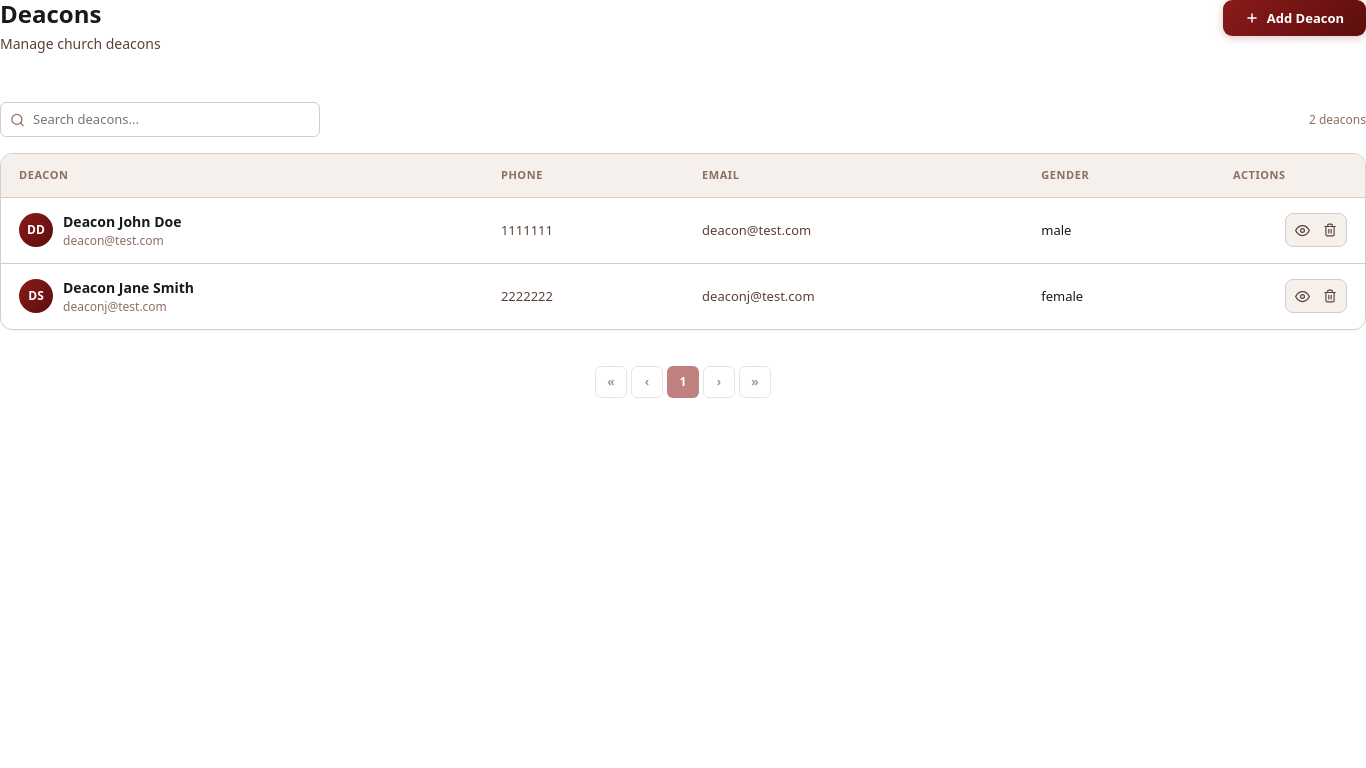
Test case: Deacons › searches members in modal
Click the button "Add Deacon".
click(1294, 18)  # box 1223,0 -> 1365,36
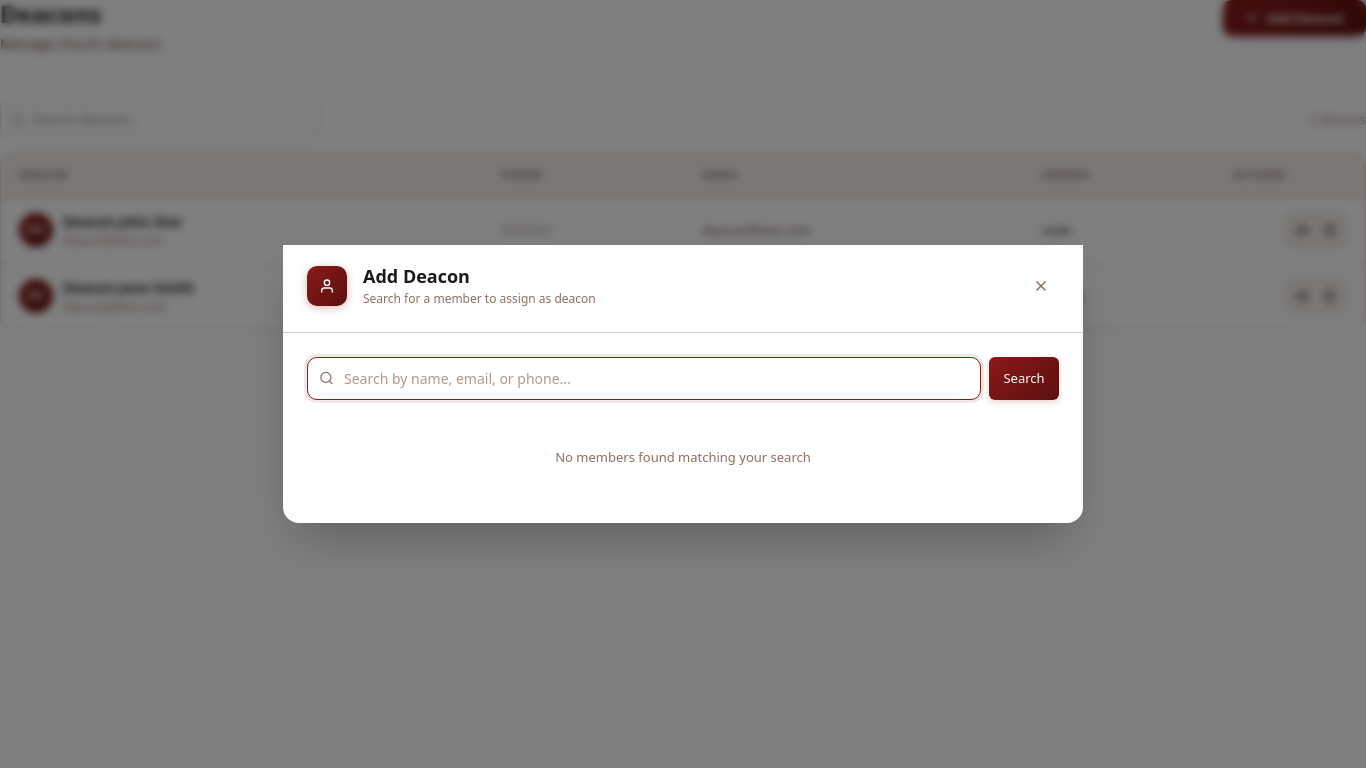
Type "Find" into the field with placeholder "Search by name, email, or phone...".
click(644, 378); type("Find")  # box 307,357 -> 981,400
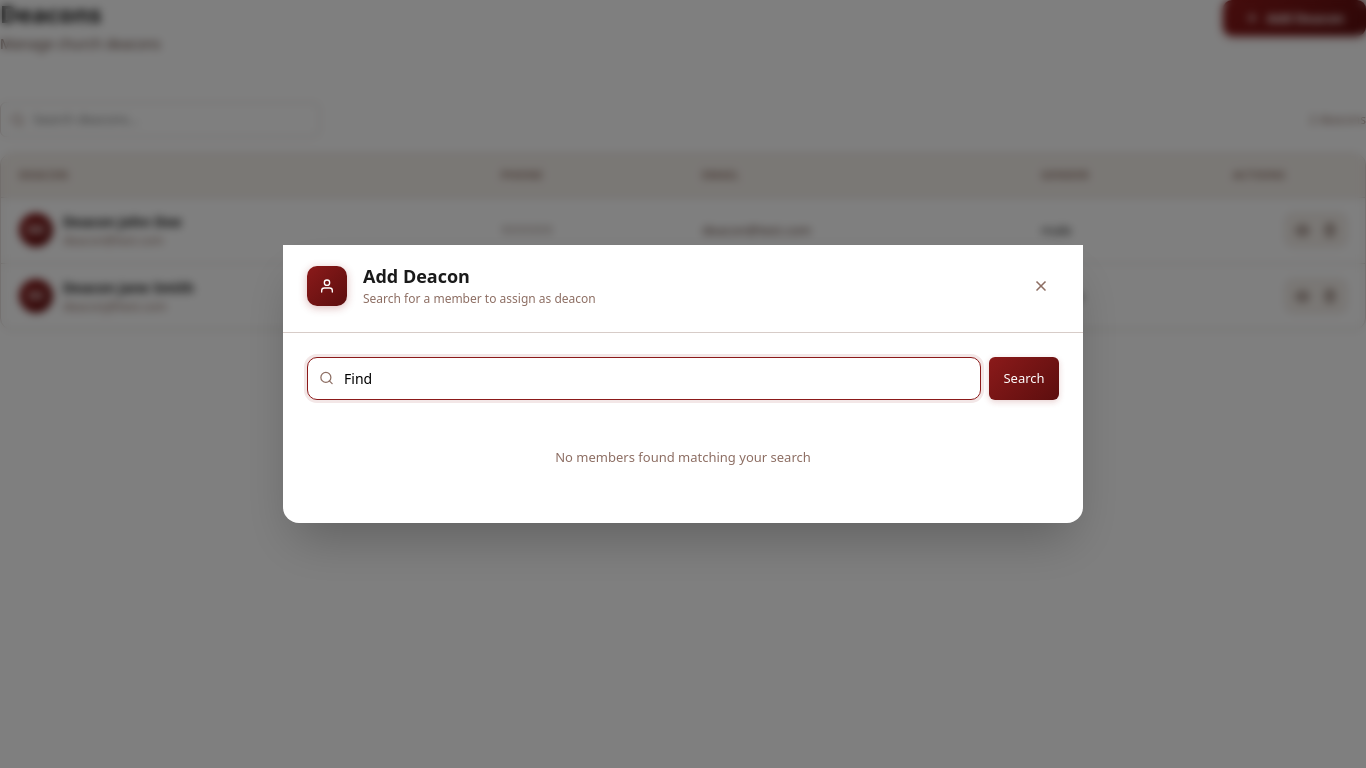
Submit the form with placeholder "Search by name, email, or phone...", box 307,357 -> 1059,400
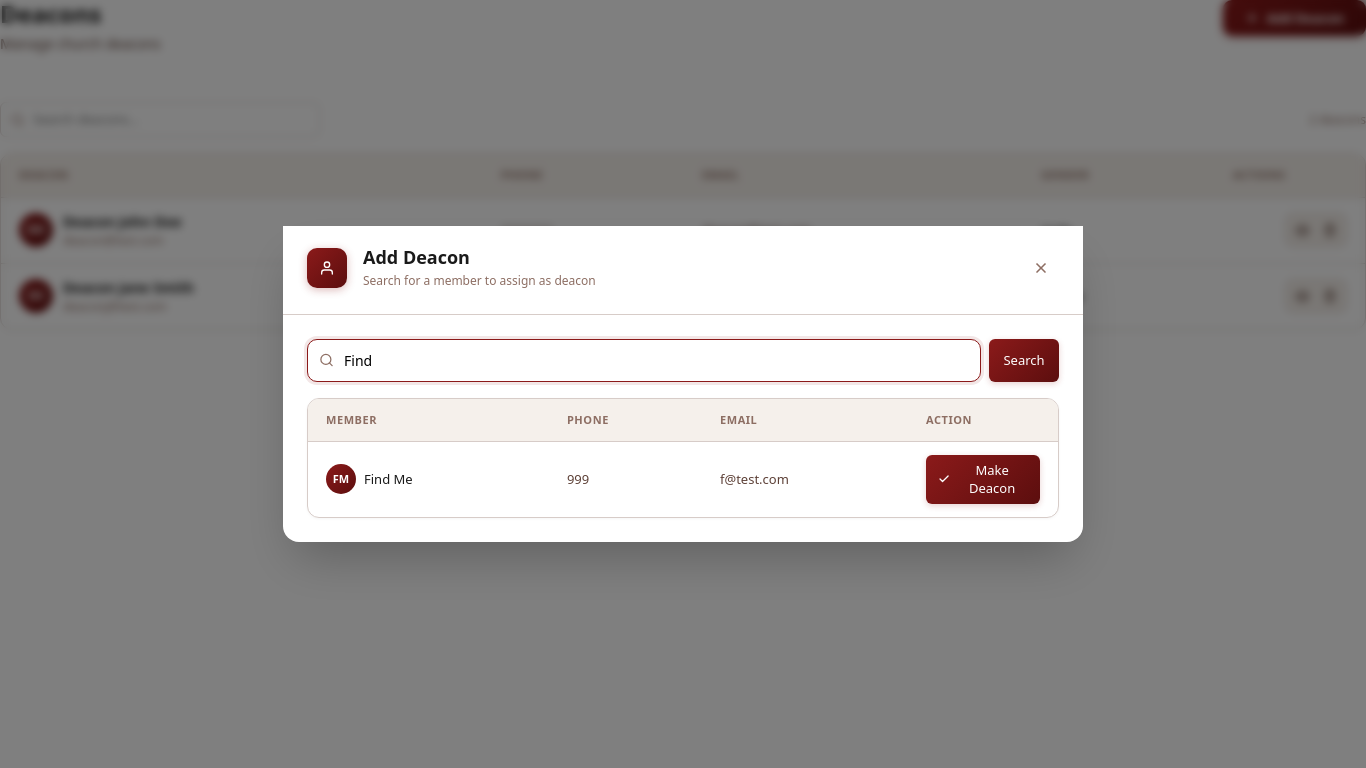
Expected: the text "Find Me" is shown, 364,470 -> 413,489
